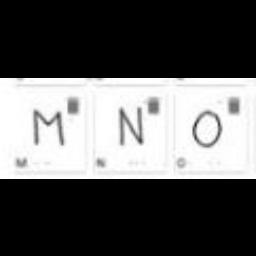m: (30, 104, 68, 150)
n: (116, 103, 146, 147)
o: (186, 105, 224, 153)
